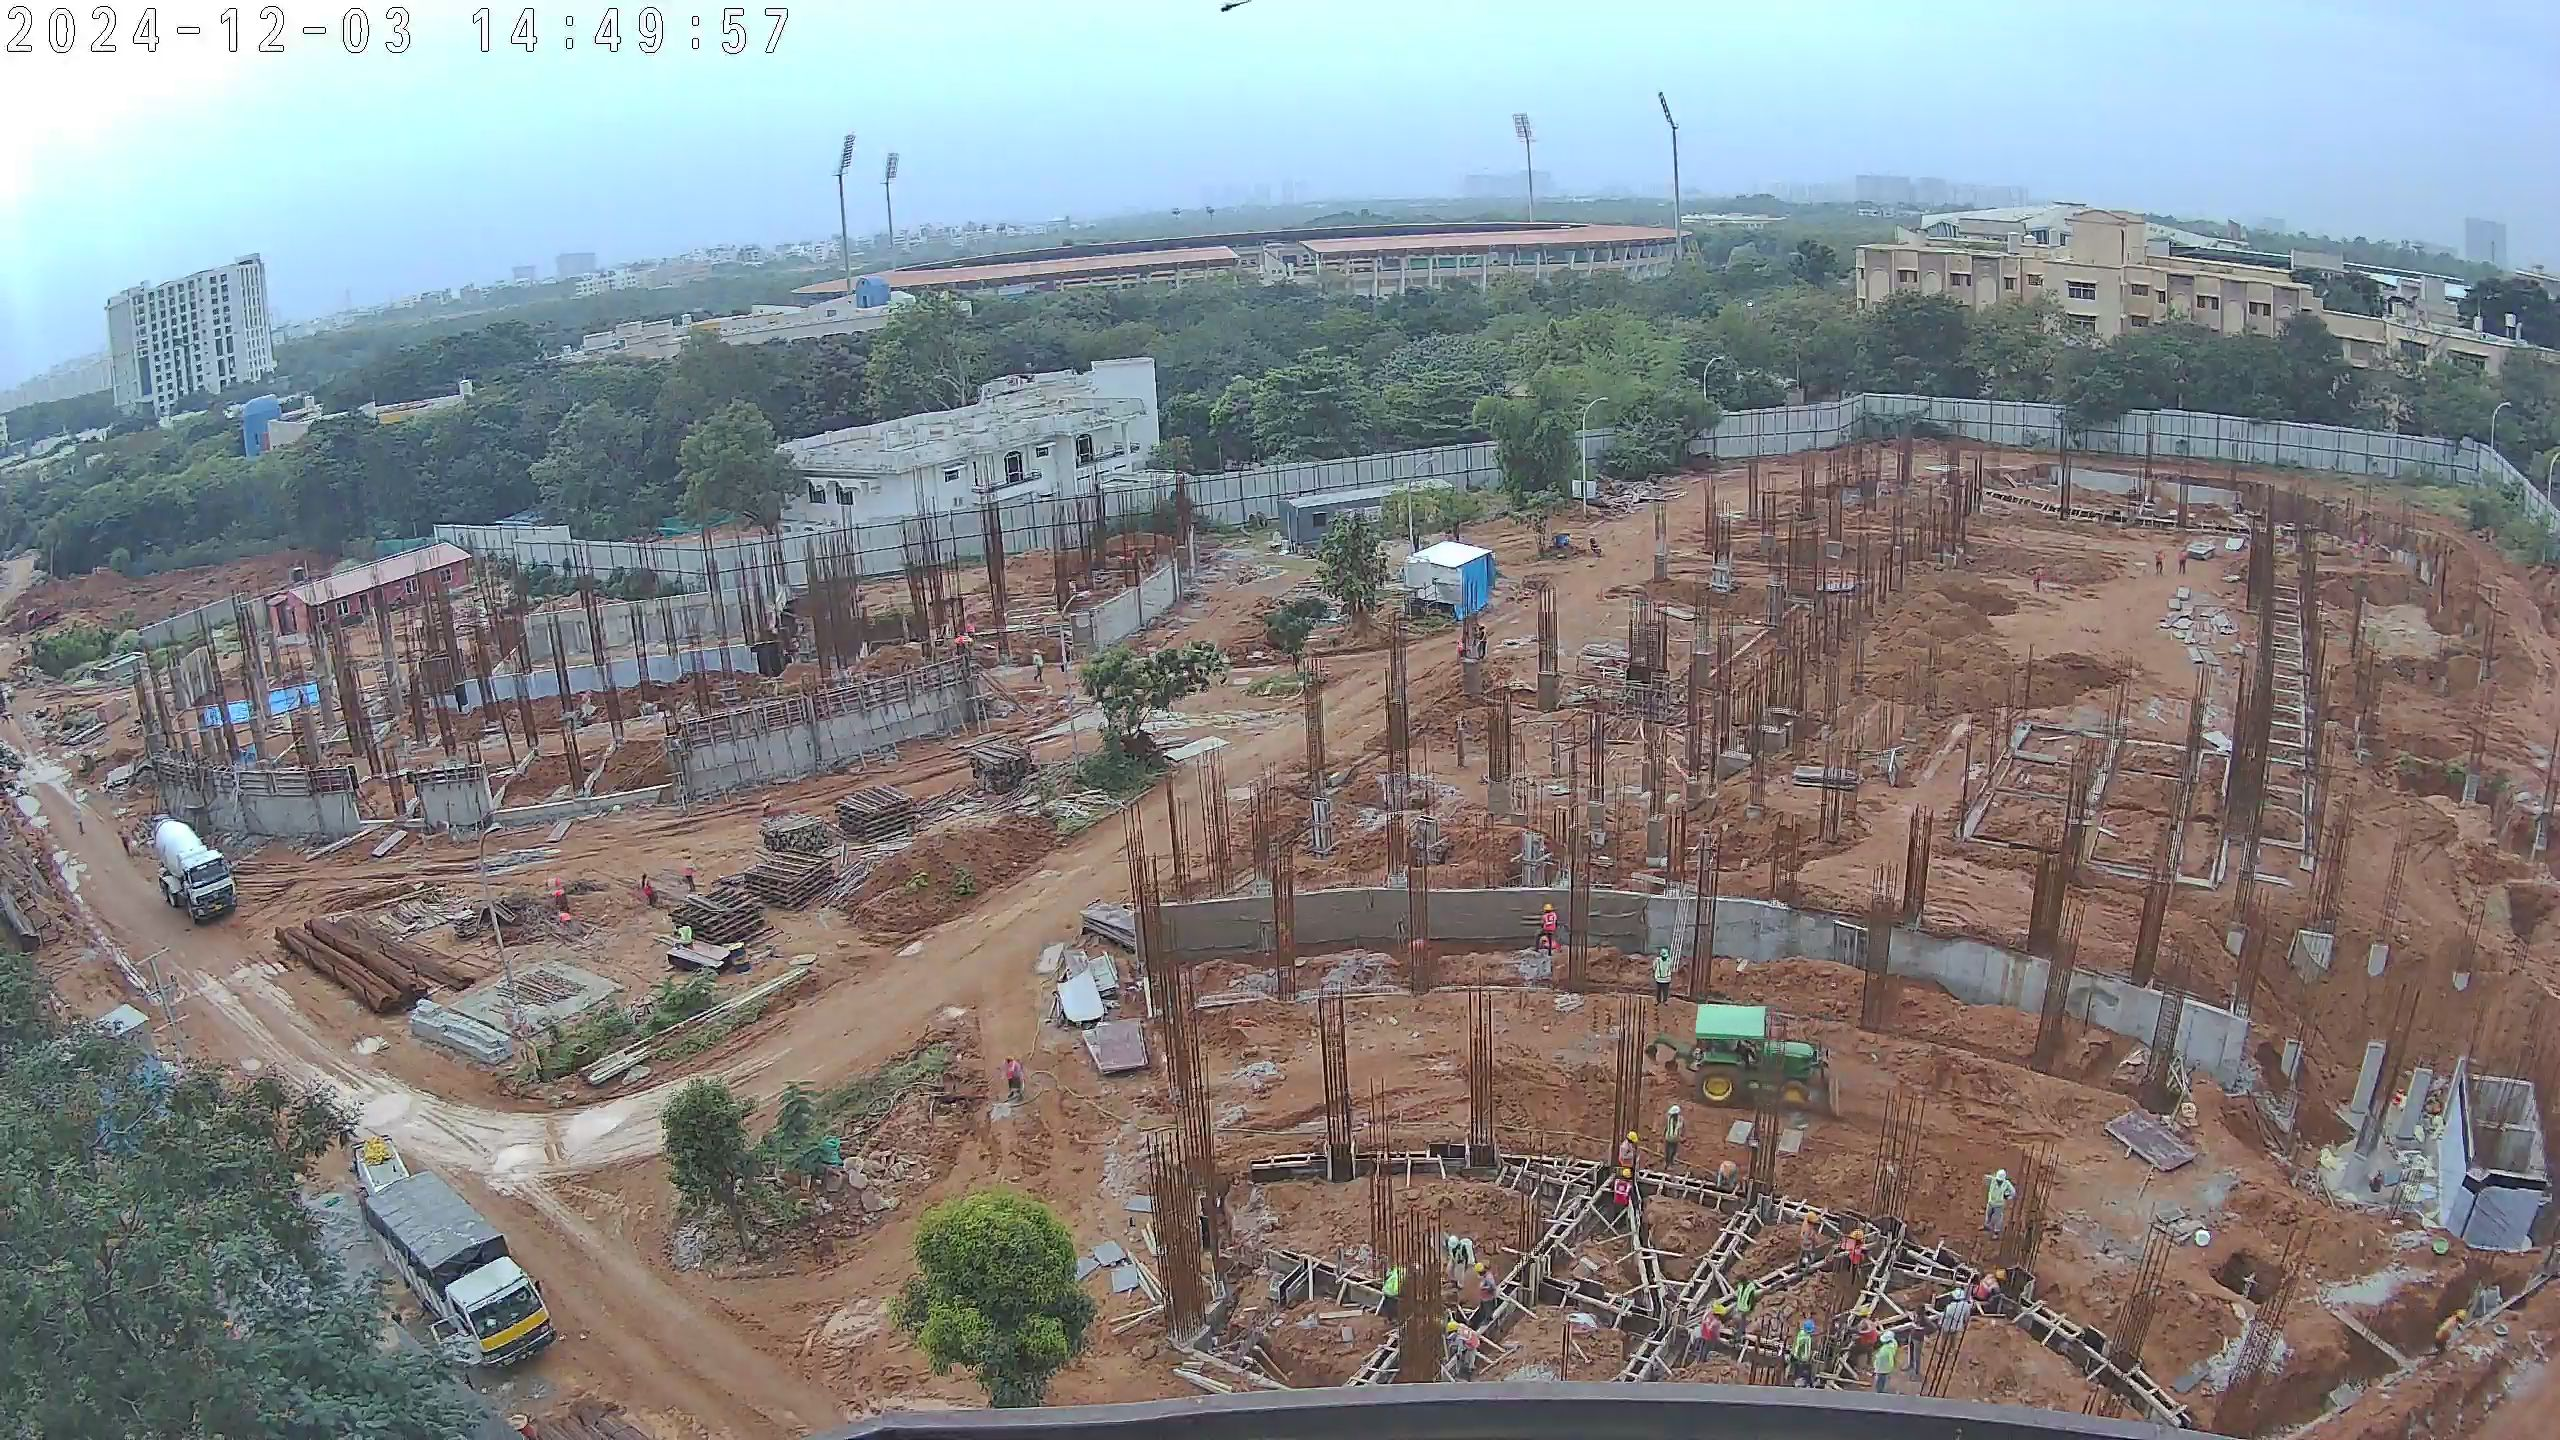bulldozer: (1643, 1000, 1843, 1122)
truck: (347, 1135, 558, 1374), (145, 816, 237, 931)
worker: (1977, 1160, 2020, 1237), (2428, 1296, 2472, 1365), (1436, 1227, 1475, 1303), (1441, 1316, 1485, 1381), (1901, 1301, 1933, 1385), (1785, 1312, 1820, 1385), (1726, 1266, 1756, 1351), (1608, 1131, 1637, 1216), (1693, 1295, 1724, 1372), (1793, 1204, 1823, 1283), (1474, 1256, 1503, 1326), (1853, 1299, 1879, 1374), (1972, 1262, 2008, 1311), (1533, 902, 1562, 962), (1870, 1329, 1897, 1393), (1652, 945, 1679, 1004), (1841, 1228, 1866, 1289), (633, 870, 663, 911), (1000, 1056, 1024, 1103), (677, 848, 700, 895), (674, 913, 699, 954), (1028, 644, 1049, 688), (1471, 619, 1490, 663), (113, 824, 132, 867), (68, 803, 88, 840), (2151, 545, 2167, 579), (2175, 545, 2189, 577), (2029, 567, 2044, 593)
